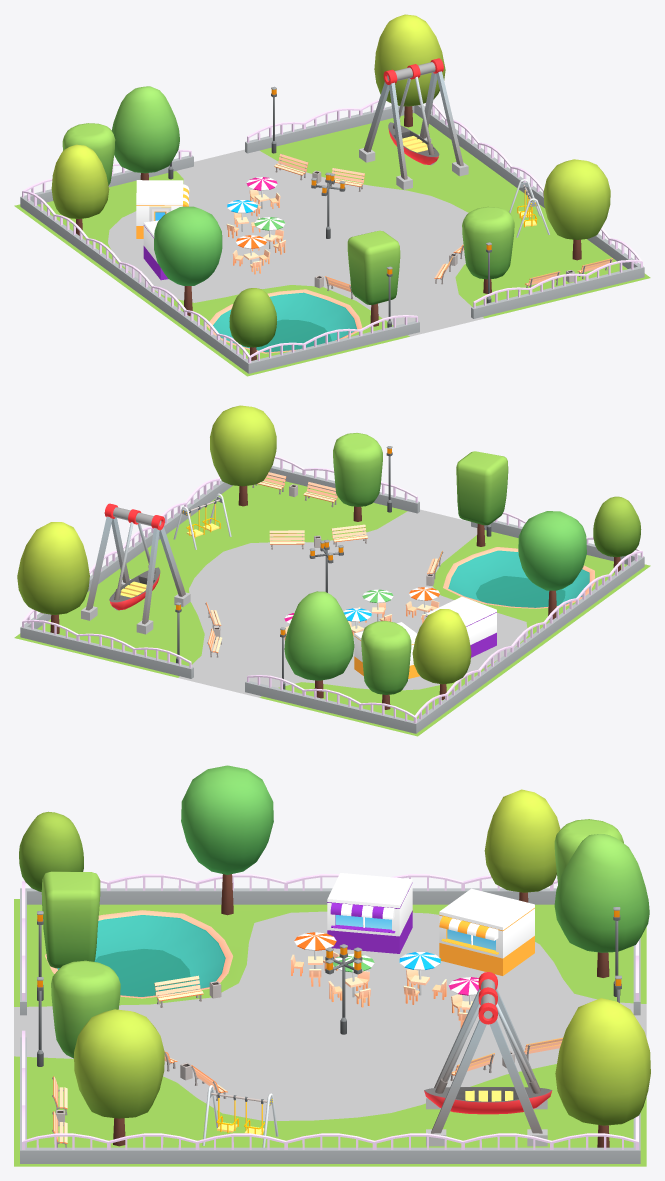
File: Entertainment_Park_07.glb
3 views of the same model, one above another, from view 1: azimuth 30°, elevation 25°; view 2: azimuth 150°, elevation 25°; view 3: azimuth 270°, elevation 25° (orthographic). The views are drawn at different scales.
Visible parts, largest first — view 1: Entertainment_Park_07; view 2: Entertainment_Park_07; view 3: Entertainment_Park_07.
Boxes of the visible parts, x1=… form: Entertainment_Park_07: x1=14, y1=14, x2=650, y2=376; Entertainment_Park_07: x1=14, y1=405, x2=650, y2=736; Entertainment_Park_07: x1=14, y1=765, x2=650, y2=1166.
Size of the model in its own units: 31.26 by 8.82 by 30.2.
Materials: 3 (3 with a texture image).
